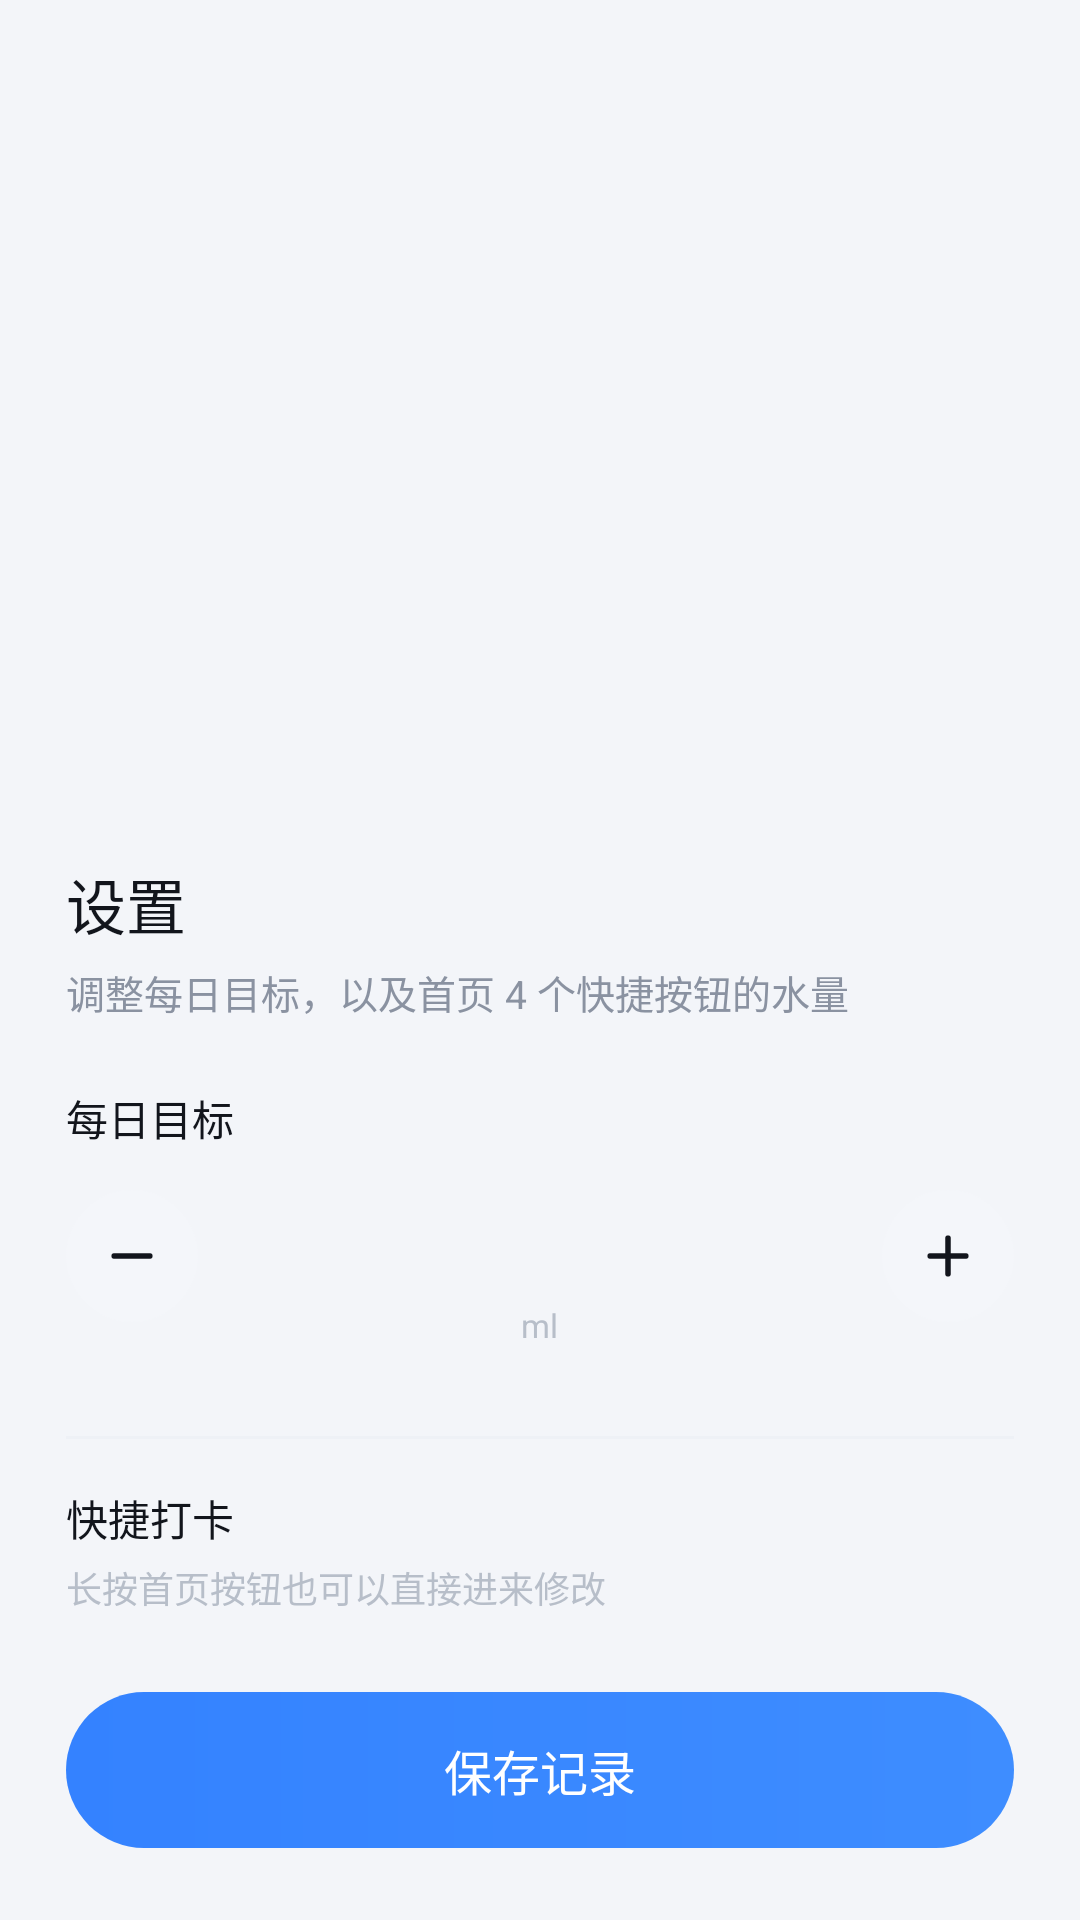

Screen size 1080w x 1920h. Icon name, then its box in pixels as (x1,y1,x2,y2):
plus: (927,1235,969,1277)
